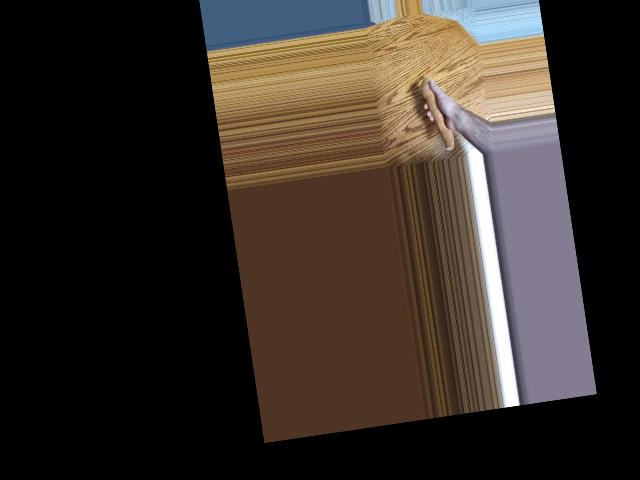sweet_potato: (419, 76, 456, 153)
